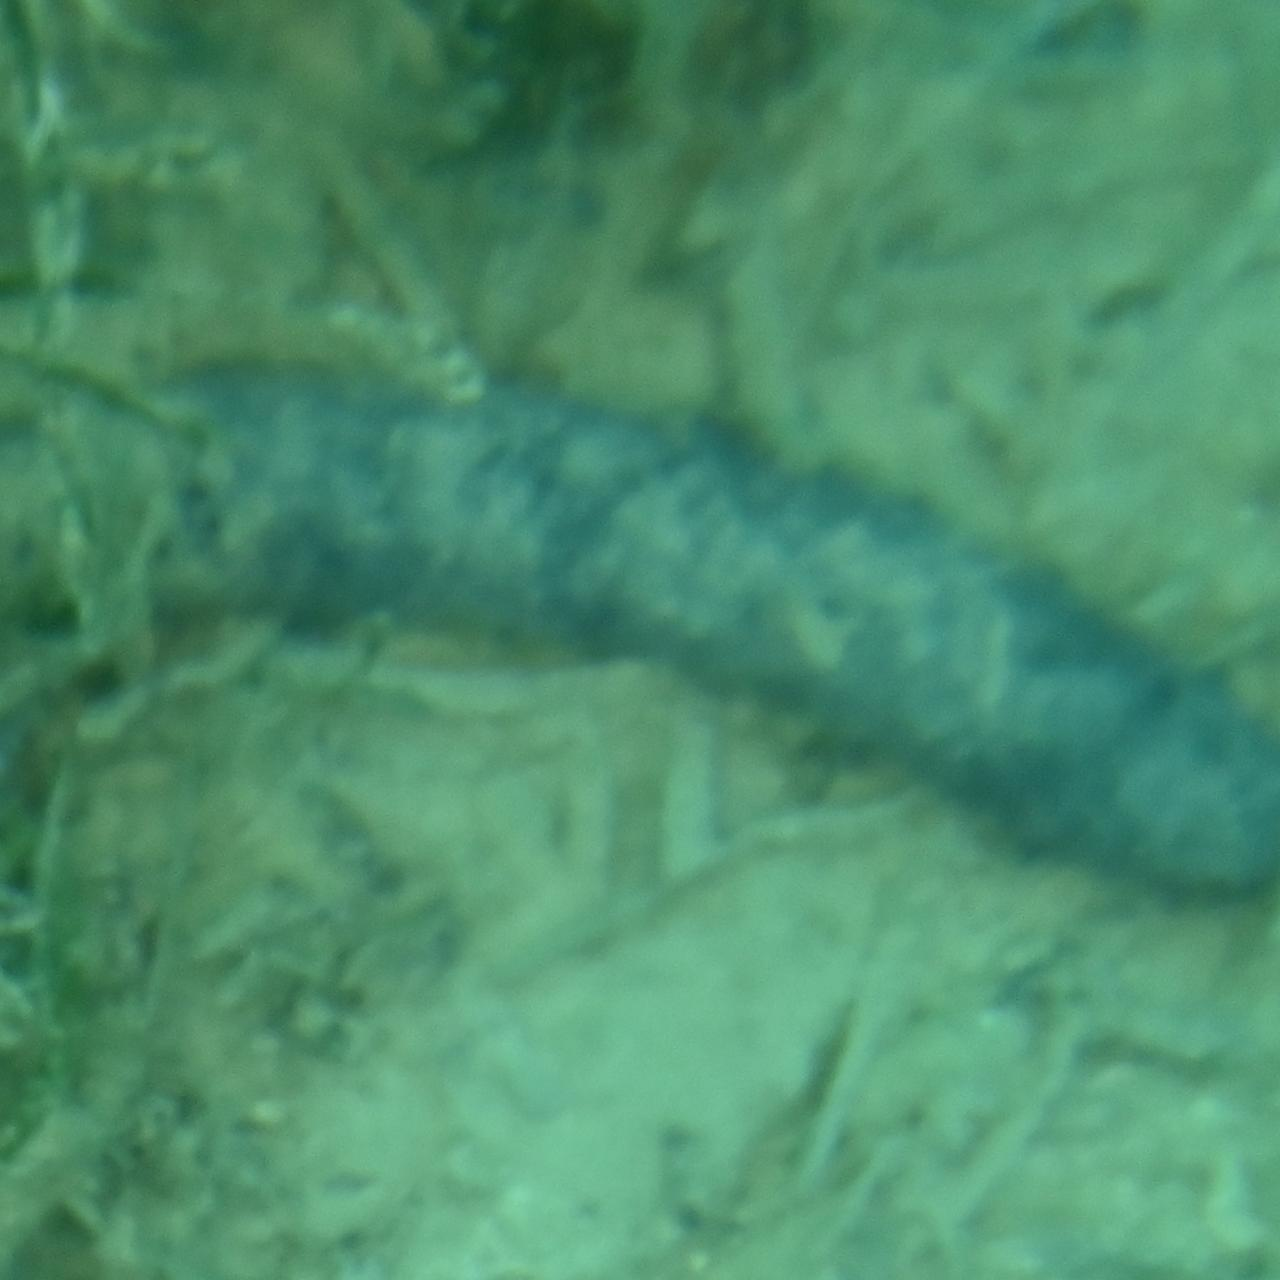Holothuria tubulosa: (0, 365, 1280, 915)
